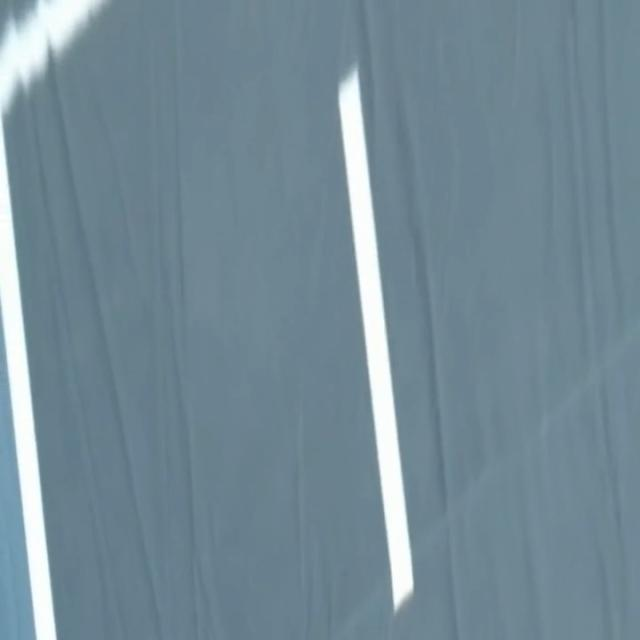center: (339, 66, 413, 612)
